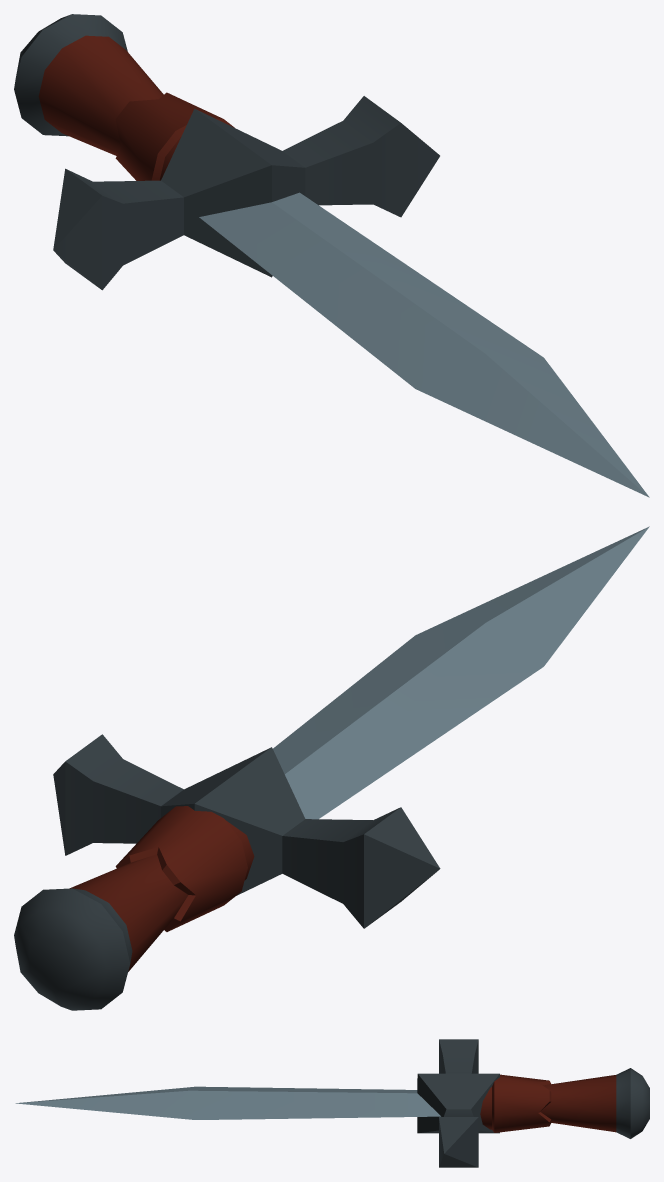
The model's file is dagger_uncommon.fbx.
3 views of the same model, one above another, from view 1: azimuth 30°, elevation 25°; view 2: azimuth 150°, elevation 25°; view 3: azimuth 270°, elevation 25° (orthographic). The views are drawn at different scales.
Visible parts, largest first — view 1: dagger_uncommon; view 2: dagger_uncommon; view 3: dagger_uncommon.
Boxes of the visible parts, bbox=[...] form: dagger_uncommon: bbox=[14, 14, 649, 497]; dagger_uncommon: bbox=[14, 526, 649, 1010]; dagger_uncommon: bbox=[15, 1039, 649, 1167].
Size of the model in its own units: 38.67 by 11.67 by 103.
